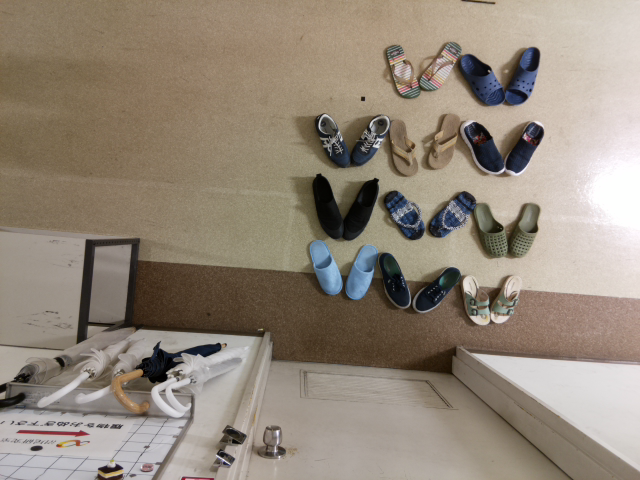Copy of Copy of Copy of Copy of Copy of Copy of Copy of Copy of Copy of Copy of: (425, 186, 478, 241), (503, 42, 545, 110), (382, 183, 427, 245), (458, 48, 504, 108), (458, 116, 502, 178), (504, 116, 547, 178), (383, 41, 426, 100), (418, 38, 461, 96), (506, 200, 545, 260), (470, 201, 508, 261), (425, 109, 460, 171), (385, 117, 420, 178)
Copy of Copy of Copy of Copy of Copy of Copy of Copy of Copy of Copy of shoe: (348, 110, 390, 173)
Copy of Copy of Copy of Copy of Copy of Copy of Copy of Copy of shoe: (309, 109, 350, 173)
Copy of Copy of Copy of Copy of Copy of Copy of Copy of shoe: (342, 174, 382, 242)
Copy of Copy of Copy of Copy of Copy of Copy of shoe: (308, 169, 343, 241)
Copy of Copy of Copy of Copy of Copy of shoe: (306, 237, 344, 300)
Copy of Copy of Copy of Copy of shoe: (342, 241, 379, 304)
Copy of Copy of Copy of shoe: (377, 249, 412, 313)
Copy of Copy of shoe: (411, 263, 465, 317)
Copy of shoe: (458, 272, 493, 332)
shoe: (487, 273, 526, 326)
